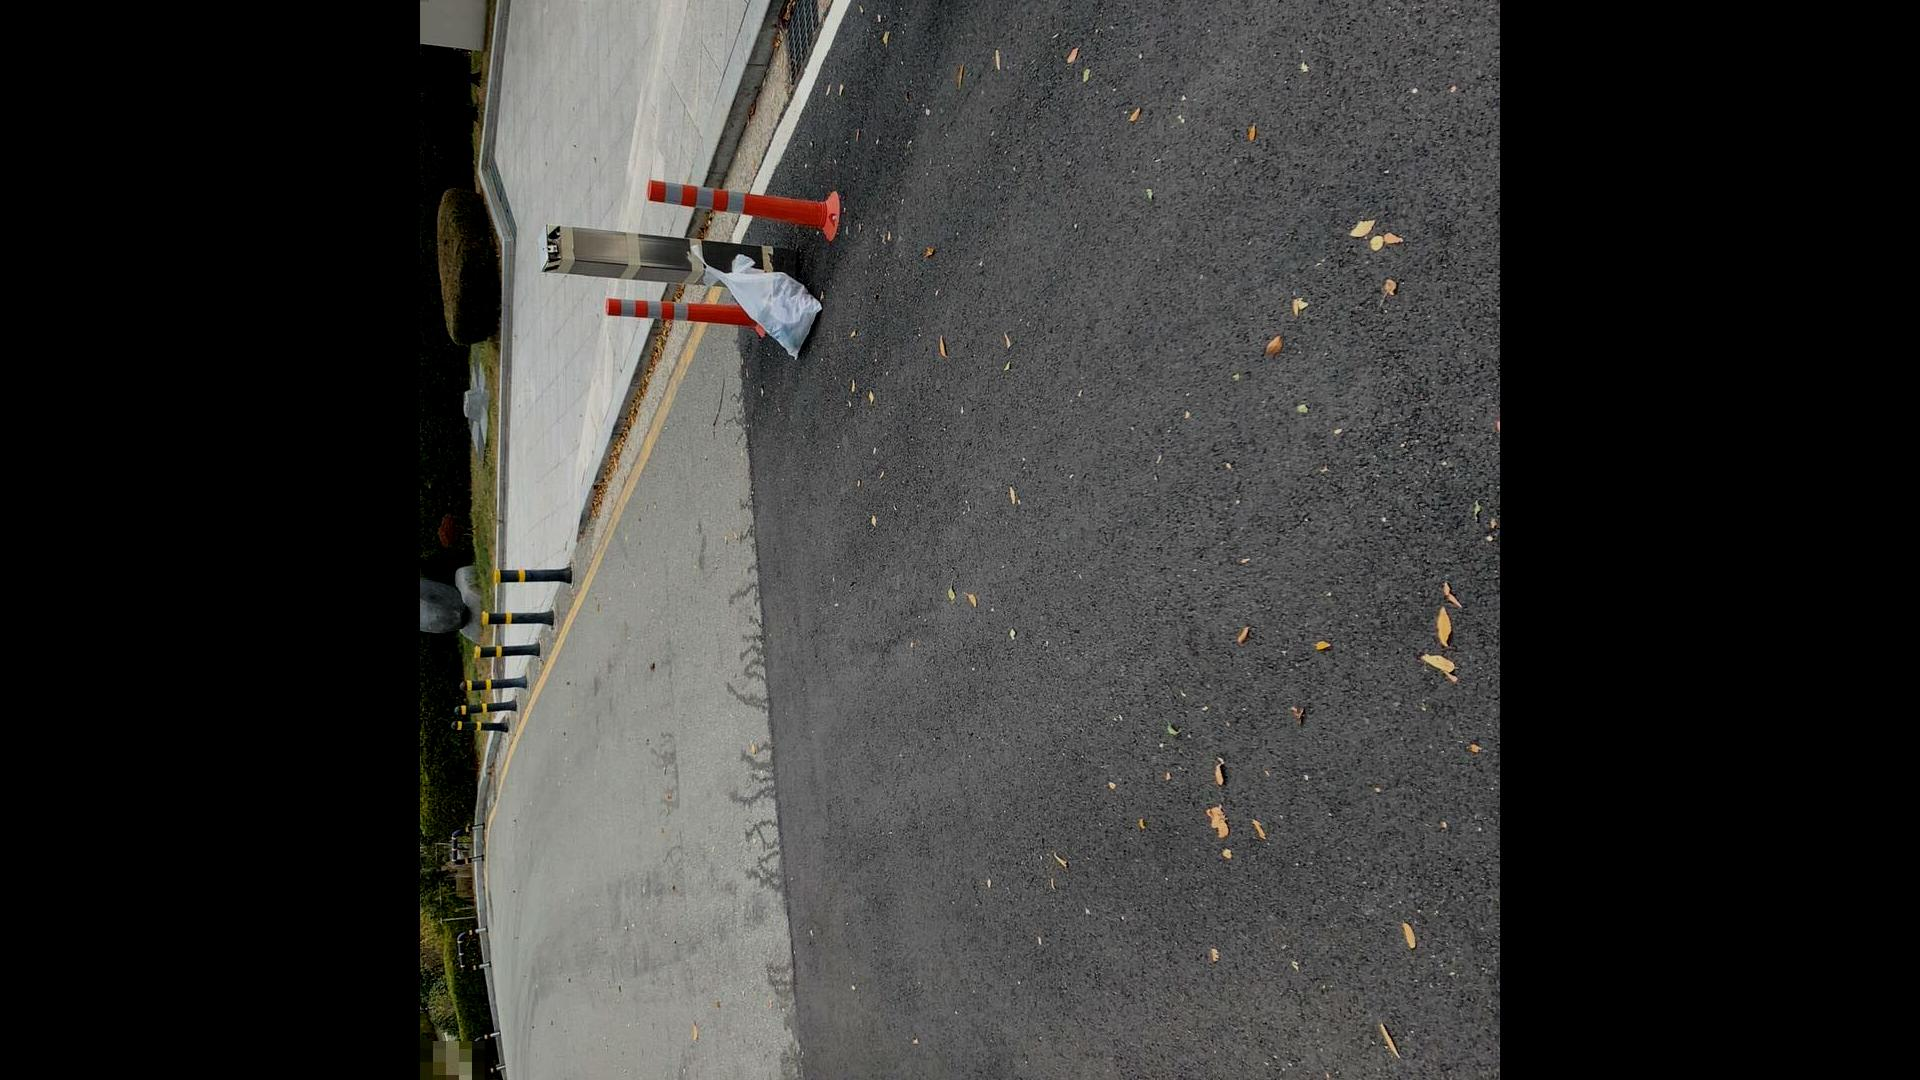white_bag: (683, 236, 825, 369)
